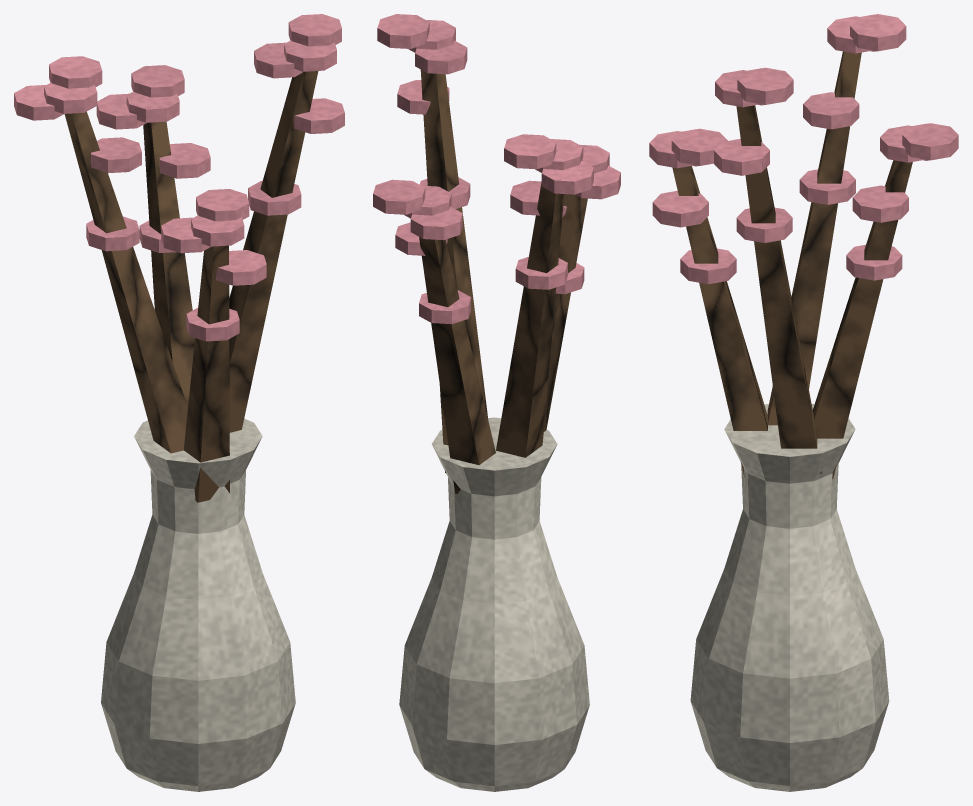
The model's file is blossom_vase.fbx.
3 views of the same model, side by side, from view 1: azimuth 30°, elevation 25°; view 2: azimuth 150°, elevation 25°; view 3: azimuth 270°, elevation 25° (orthographic). The views are drawn at different scales.
Parts seen in each view (by area): view 1: blossom_vase; view 2: blossom_vase; view 3: blossom_vase.
Boxes of the visible parts, x1=… form: blossom_vase: x1=14, y1=14, x2=344, y2=791; blossom_vase: x1=373, y1=14, x2=620, y2=791; blossom_vase: x1=649, y1=14, x2=958, y2=791.
Bounding box in the file's own units: 33.8 × 86.5 × 33.
